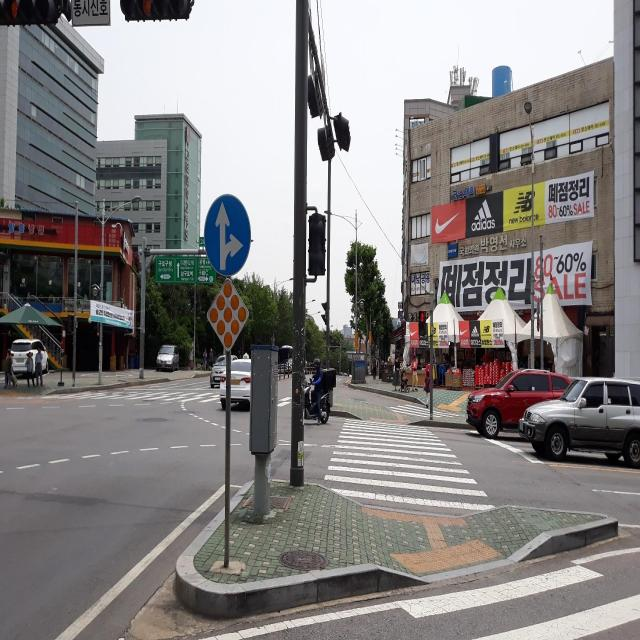빨간불: (418, 310, 427, 341)
횡단보도: (394, 563, 640, 640), (322, 414, 496, 521), (44, 384, 223, 411)
